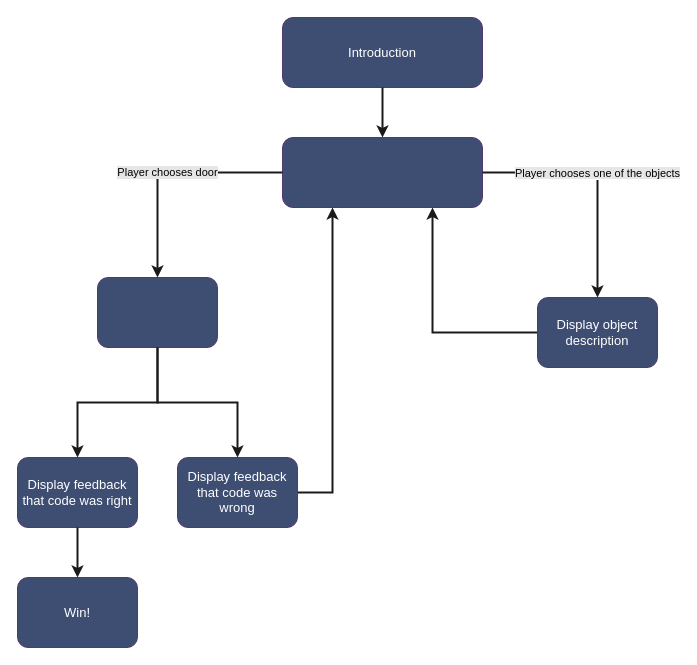
Some shapes in this 697 by 665 pixel diagram are drawn without their labels. Here are the shapes that lost their labels. From the top down, the centre of each, then its label:
point 382,172: Display the options to the player: door, painting, drawer, cane
point 157,312: Prompt for door code
